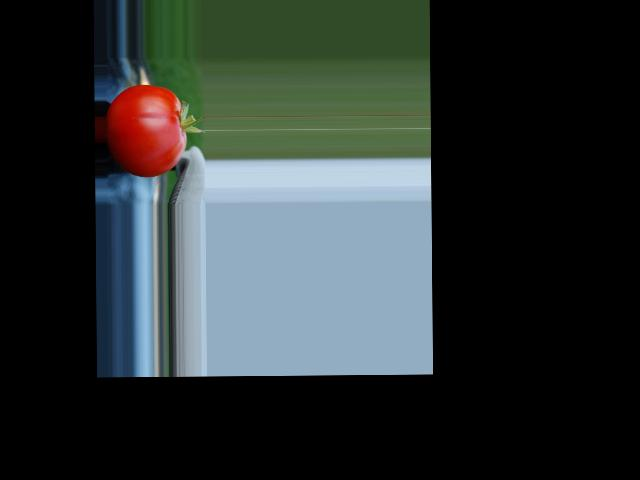tomato: (105, 84, 186, 177)
